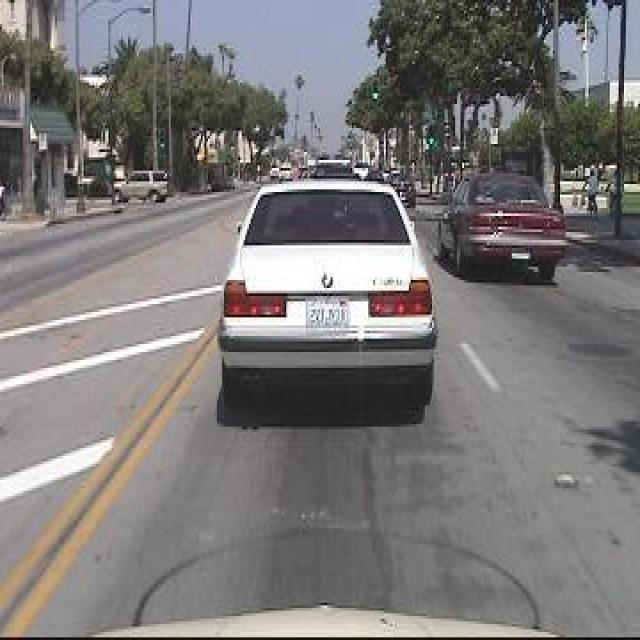car_back: (206, 165, 438, 426)
